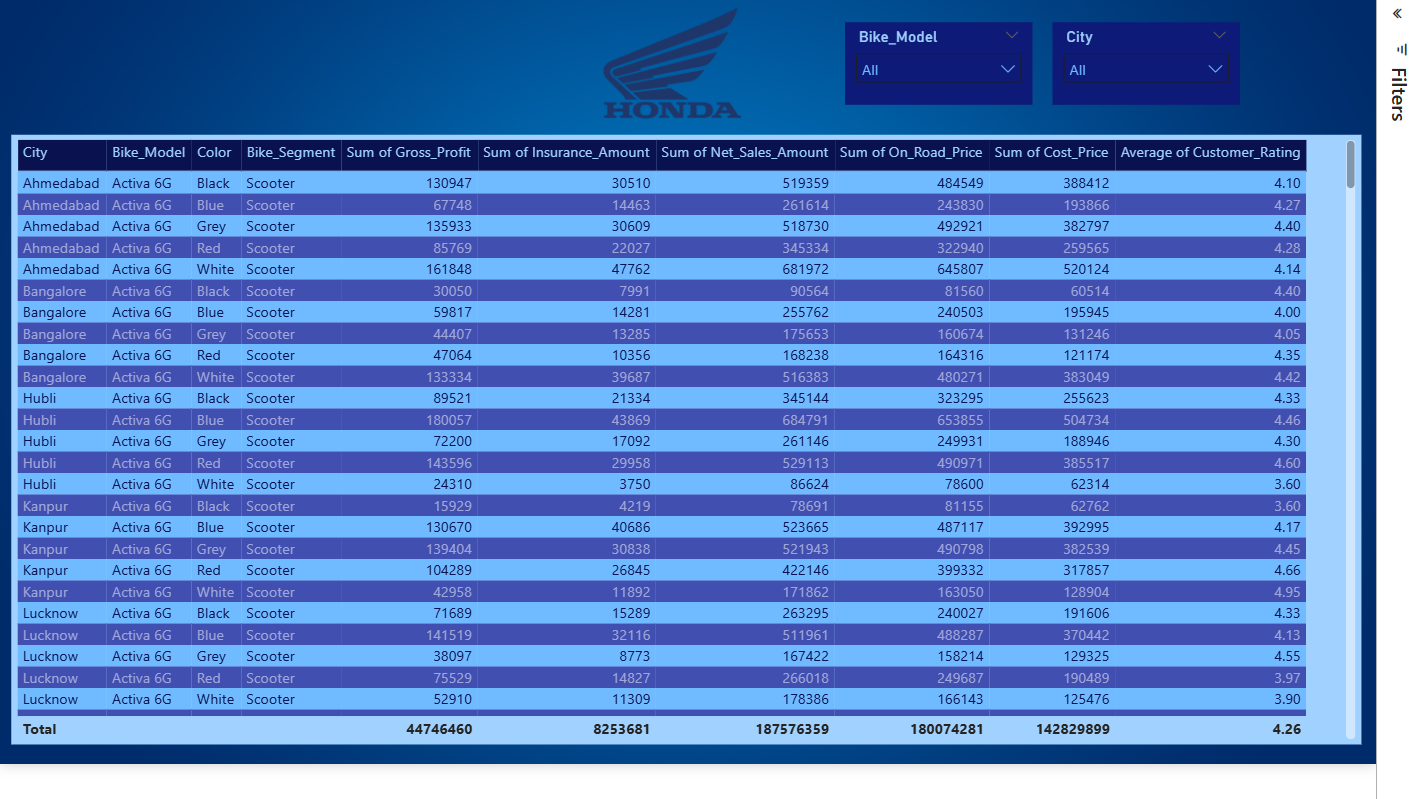

The page's visual inventory and layout, read from the dashboard file:
{"tool":"powerbi","page":{"name":"Details","canvas":[1280,720],"ordinal":2},"visuals":[{"type":"image","box":[558.6,0,134.3,134.3],"z":0},{"type":"tableEx","fields":{"Values":["Honda data.City","Honda data.Bike_Model","Honda data.Color","Honda data.Bike_Segment","Sum(Honda data.Gross_Profit)","Sum(Honda data.Insurance_Amount)","Sum(Honda data.Net_Sales_Amount)","Sum(Honda data.On_Road_Price)","Sum(Honda data.Cost_Price)","Avg(Honda data.Customer_Rating)"]},"box":[10,134.3,1255.7,567.1],"z":1},{"type":"slicer","fields":{"Values":["Honda data.Bike_Model"]},"box":[785.7,28.6,174.3,77.1],"z":2},{"type":"slicer","fields":{"Values":["Honda data.City"]},"box":[978.6,28.6,174.3,77.1],"z":3}]}

Visuals, with their boxes in screenshot pixels (x1, y1, x2, y2):
image: locate(604, 0, 750, 139)
tableEx - Honda data.City x Honda data.Bike_Model: locate(7, 139, 1372, 755)
slicer - Honda data.Bike_Model: locate(850, 24, 1040, 108)
slicer - Honda data.City: locate(1060, 24, 1250, 108)
